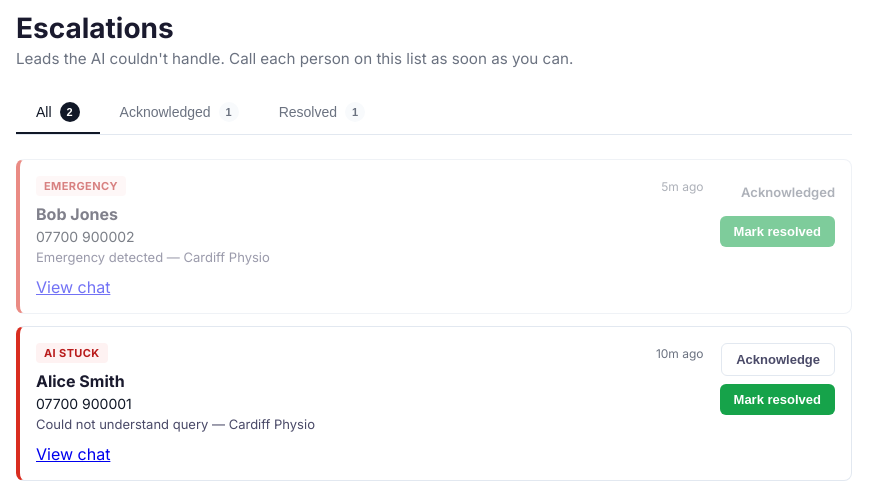
EscalationsPage › shows only acknowledged escalations on Acknowledged tab
Click the Acknowledged tab button (first match is the tab)
Click the button "Acknowledged 1".
click(179, 113)  # box [100,92,259,134]
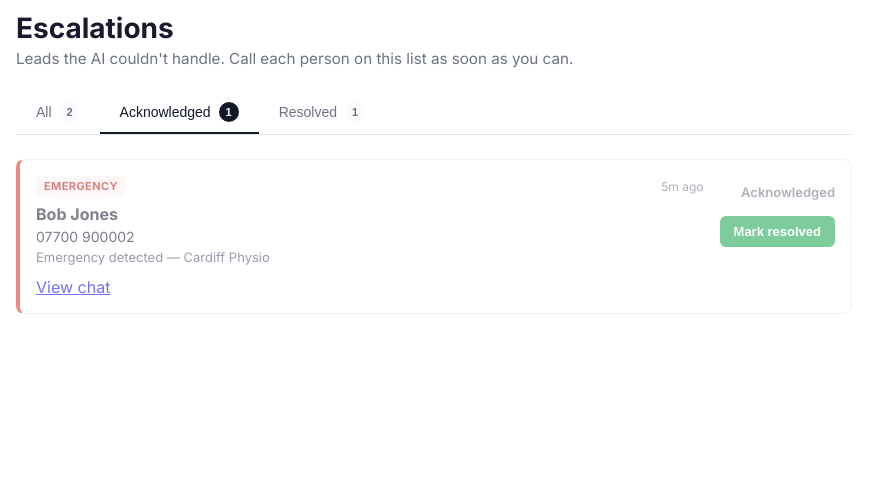
expect the text "Bob Jones" is shown: met, box [36,204,118,224]
expect the text "Alice Smith" is gone: met
